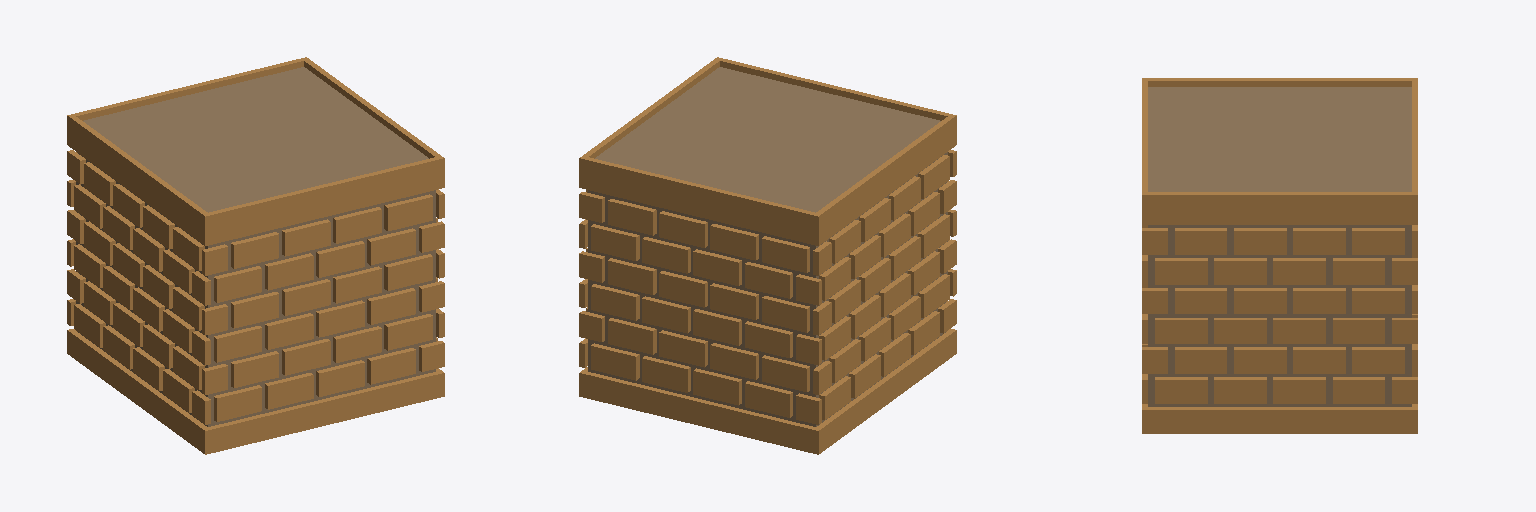
3 renders of one model, left to right at view 1: azimuth 30°, elevation 25°; view 2: azimuth 150°, elevation 25°; view 3: azimuth 270°, elevation 25°, orthographic.
Parts seen in each view (by area): view 1: desert_wall; view 2: desert_wall; view 3: desert_wall.
Part boxes in pixels (bbox=[...]): desert_wall: bbox=[67, 57, 444, 454]; desert_wall: bbox=[579, 57, 956, 454]; desert_wall: bbox=[1142, 78, 1417, 433].
Size of the model in its own units: 42 by 40 by 42.
1 materials, 1 textured.